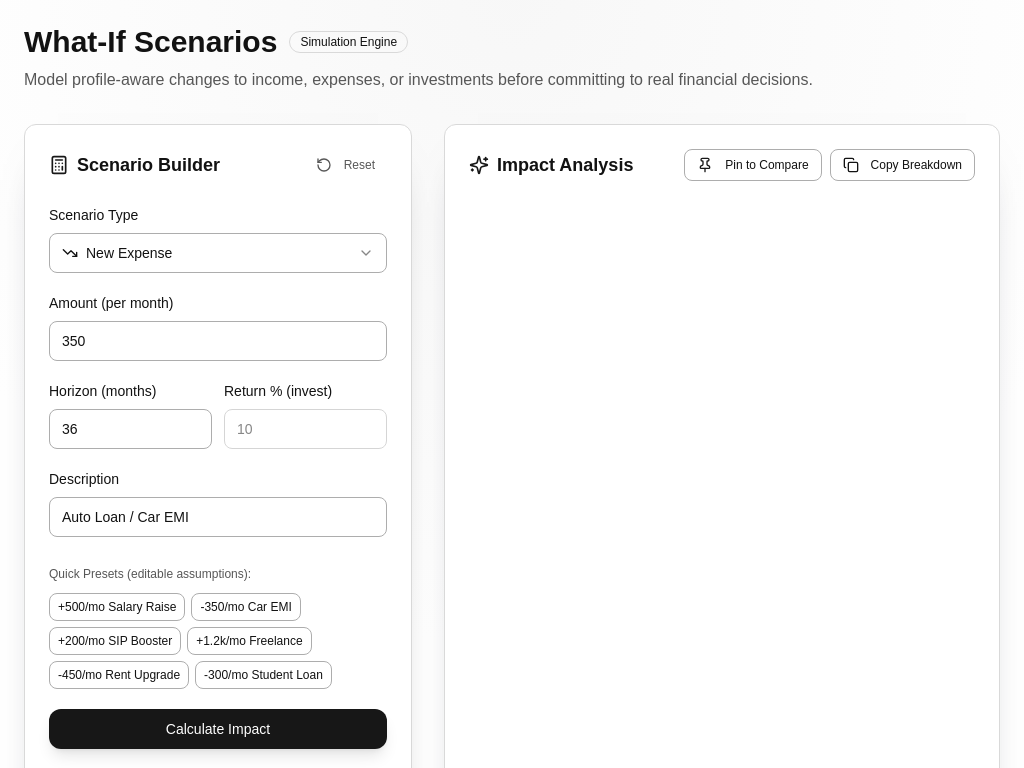
Scenarios page › resets scenario when clicking Reset button
Earlier steps of the test are not shown.
Click the button with test id "button-reset-scenario".
click(345, 165)  # box [304, 149, 387, 181]
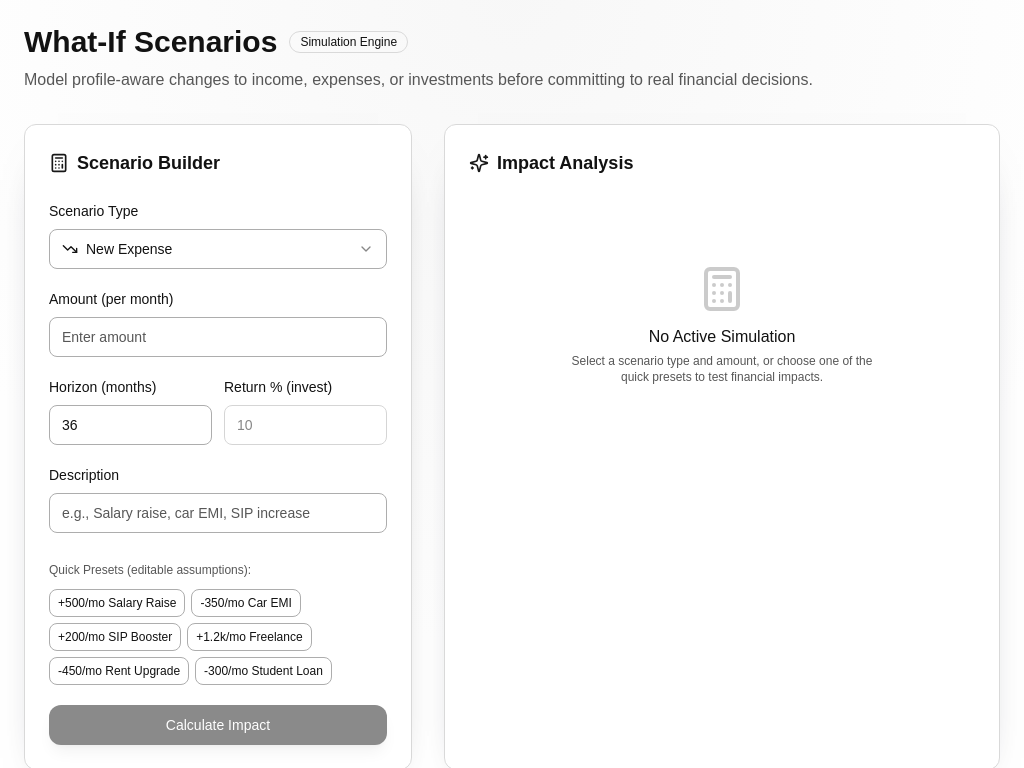
expect the number field with test id "input-scenario-amount" is not empty: met, box [49, 317, 387, 357]
expect the text "No Active Simulation" is shown: met, box [649, 328, 795, 345]
